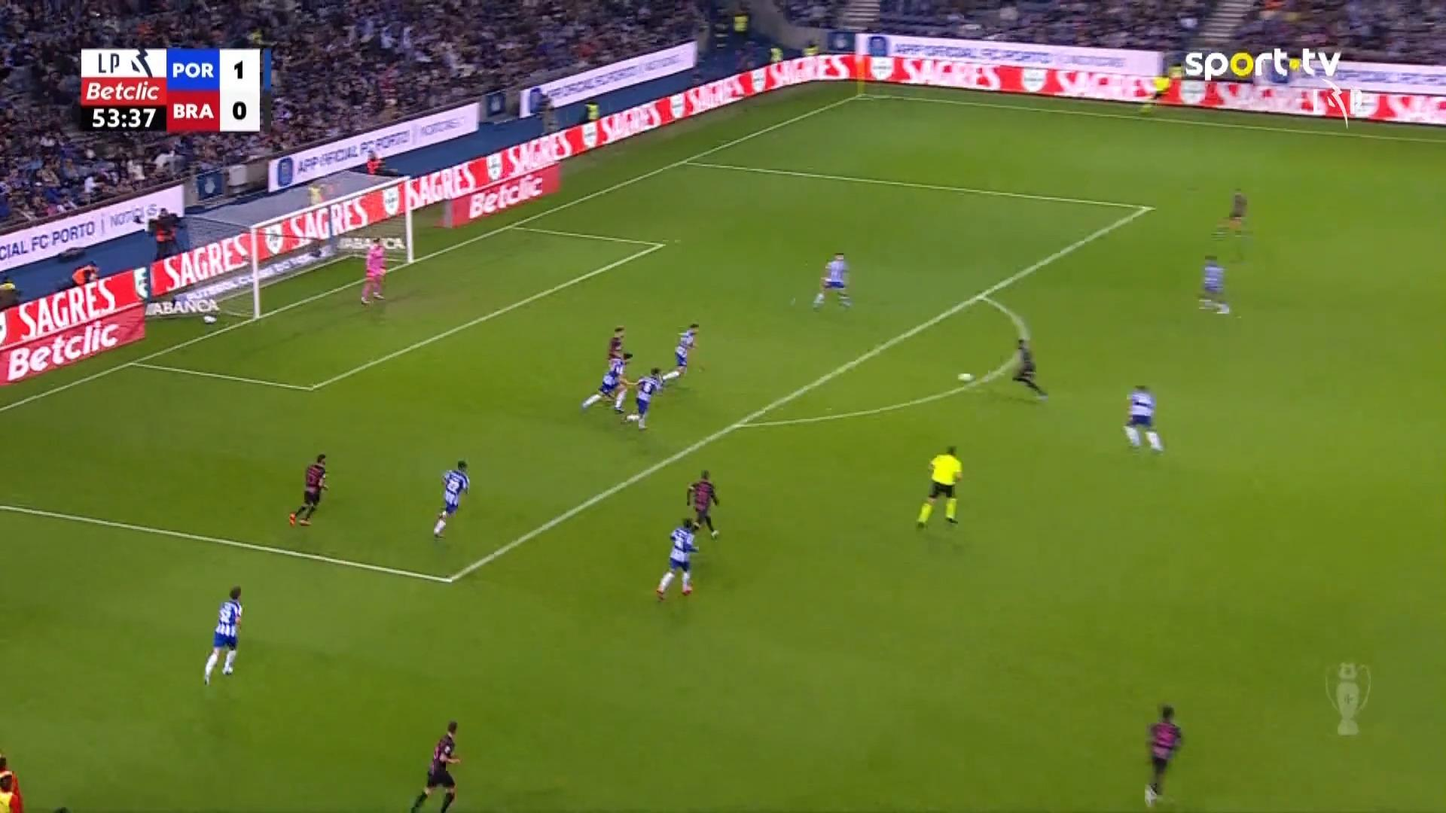ball: (957, 372, 973, 382)
goalkeeper: (359, 236, 387, 305)
player: (410, 719, 461, 811), (202, 585, 243, 686), (1142, 703, 1182, 805), (654, 516, 700, 601), (580, 351, 633, 413), (288, 453, 329, 527), (432, 459, 470, 538), (1122, 383, 1163, 452), (659, 322, 700, 387), (685, 469, 720, 539), (626, 367, 664, 431), (811, 251, 852, 309), (1011, 336, 1048, 398), (1197, 254, 1230, 314), (607, 325, 633, 361)
referee: (915, 444, 963, 529), (1145, 73, 1173, 117)
